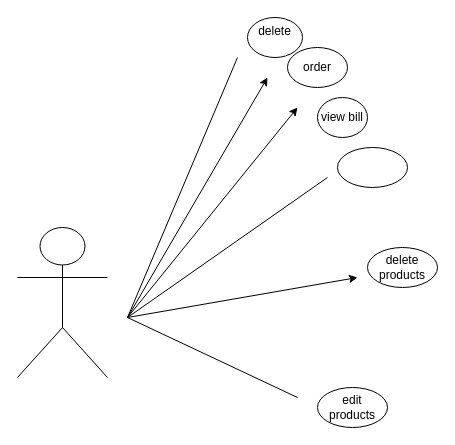
The diagram is 455 pixels wide and 445 high, and some of its shapes have lost their labels. The shapes that lost their labels are listed below. From the top down, each one's centre as x and y in pixels, then its label:
the point at 372,167: edit clients
the point at 62,302: User
